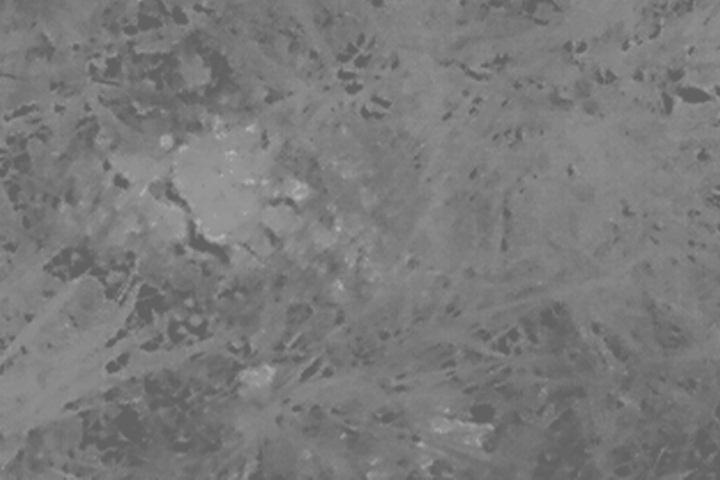landmine: (170, 138, 282, 251)
